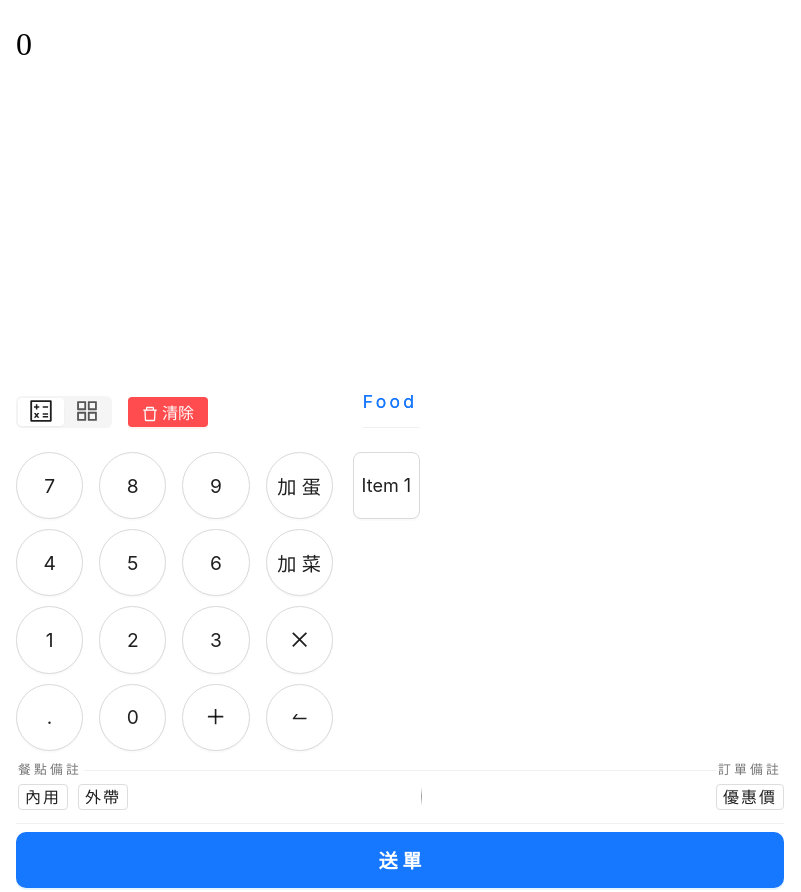
Keyboard Component › handles number input correctly
Click the button "1": [50, 640] box [16,606,83,674]
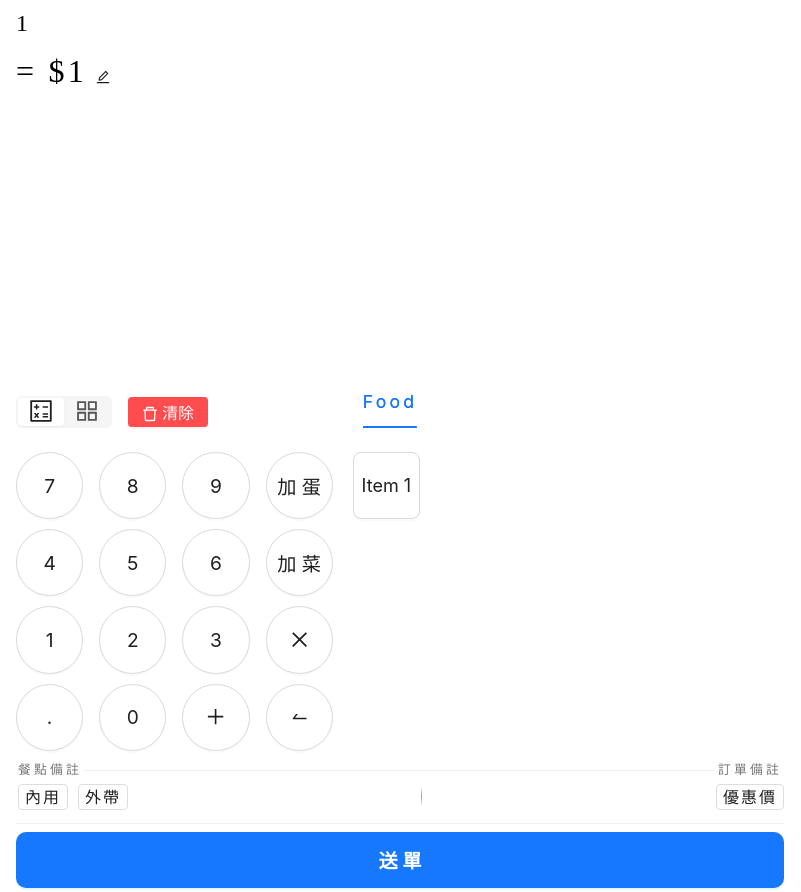
Expected: the text "= $1" is shown, [16,53,119,89]
